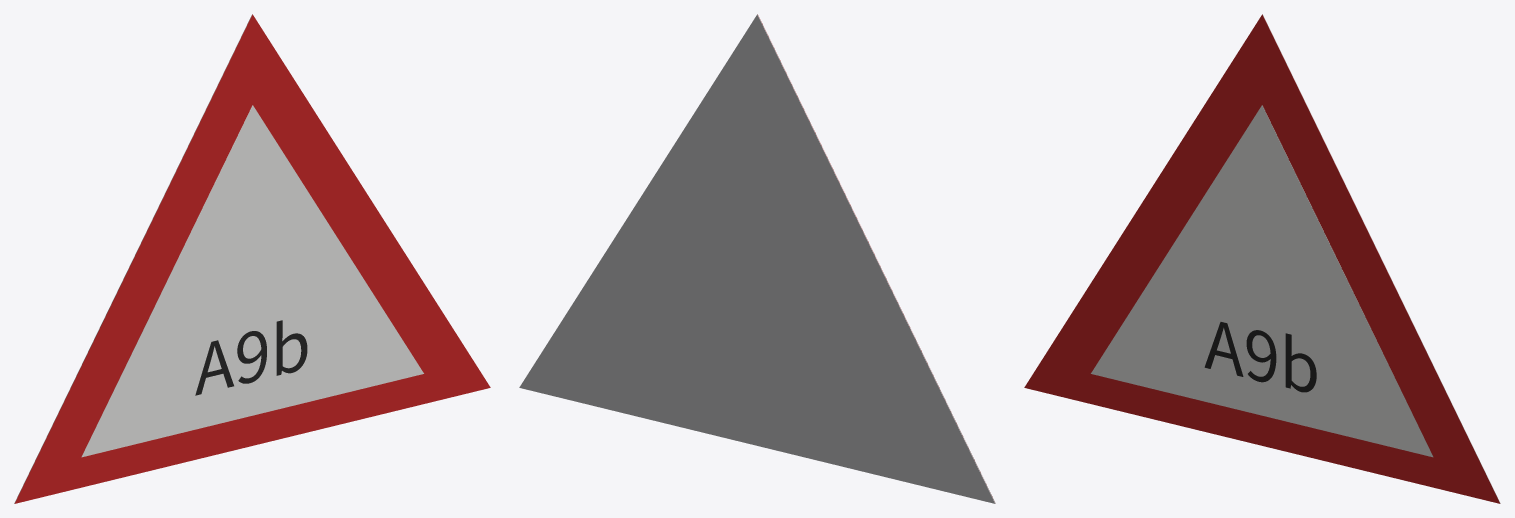
3 views of the same model, side by side, from view 1: azimuth 30°, elevation 25°; view 2: azimuth 150°, elevation 25°; view 3: azimuth 330°, elevation 25° (orthographic).
Parts seen in each view (by area): view 1: A9b_int01, A9b_ext00, A9b_txt02, A9b_dos; view 2: A9b_dos; view 3: A9b_int01, A9b_ext00, A9b_txt02, A9b_dos.
Part boxes in pixels (left/top/right/bottom): A9b_int01: left=81, top=105, right=423, bottom=457; A9b_ext00: left=14, top=14, right=490, bottom=503; A9b_txt02: left=195, top=320, right=307, bottom=395; A9b_dos: left=14, top=14, right=252, bottom=503; A9b_dos: left=519, top=14, right=995, bottom=503; A9b_int01: left=1091, top=105, right=1433, bottom=457; A9b_ext00: left=1024, top=14, right=1500, bottom=503; A9b_txt02: left=1204, top=322, right=1316, bottom=392; A9b_dos: left=1262, top=14, right=1500, bottom=503.
Bounding box in the file's own units: 1 × 0.866 × 0.0025.
